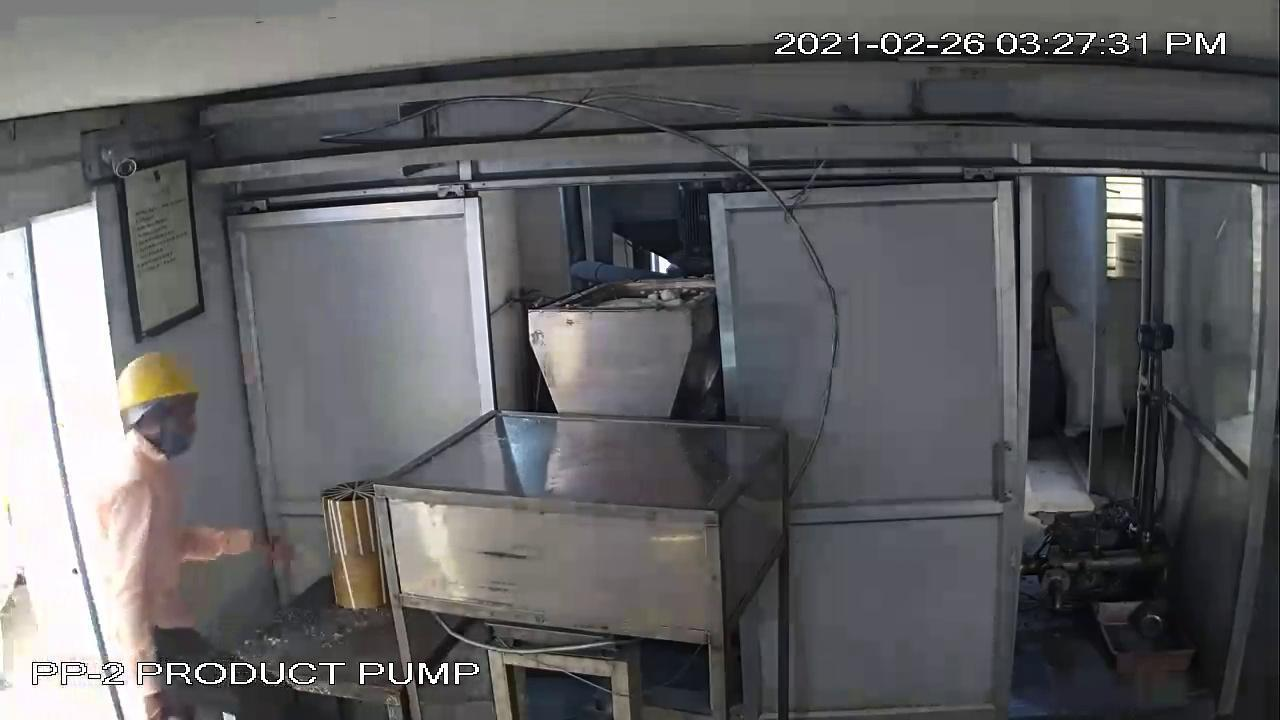helmet: (108, 345, 207, 416)
